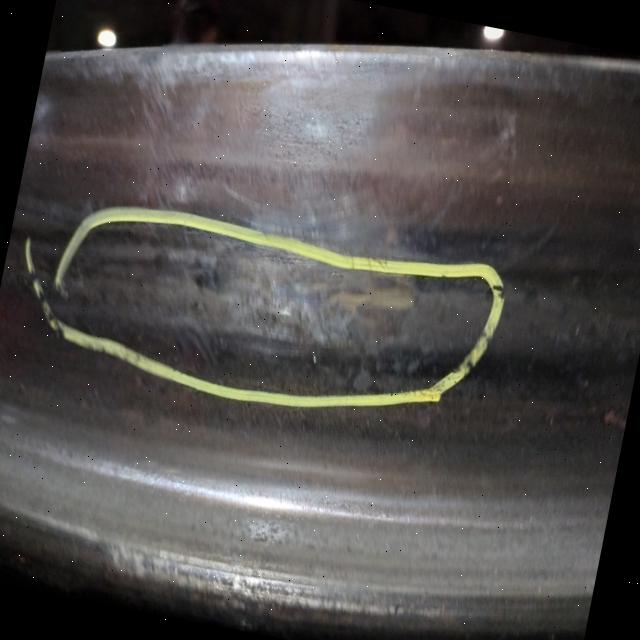flat: (65, 192, 441, 402)
